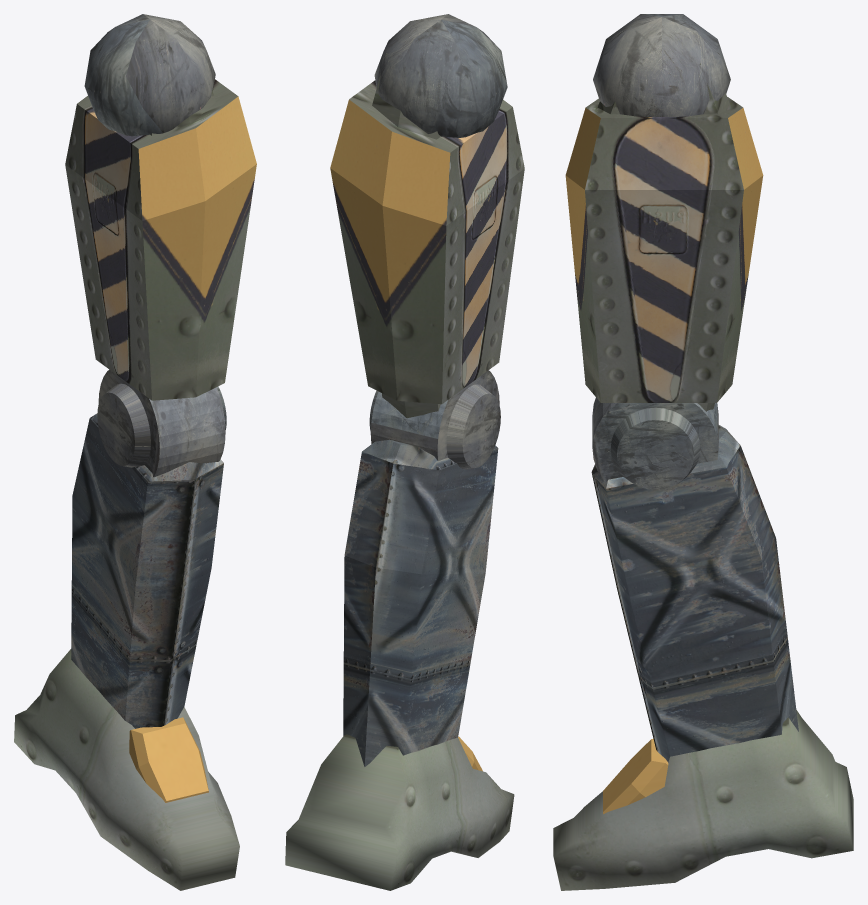
File: robot 4 Left leg.fbx
3 views of the same model, side by side, from view 1: azimuth 30°, elevation 25°; view 2: azimuth 150°, elevation 25°; view 3: azimuth 270°, elevation 25° (orthographic). The views are drawn at different scales.
Parts seen in each view (by area): view 1: Icosphere.001, Cylinder.004, Cube.016; view 2: Icosphere.001, Cylinder.004, Cube.016; view 3: Icosphere.001, Cylinder.004, Cube.016.
Part boxes in pixels (left/top/right/bottom): Icosphere.001: left=65, top=14, right=256, bottom=400; Cylinder.004: left=71, top=369, right=226, bottom=728; Cube.016: left=14, top=649, right=239, bottom=890; Icosphere.001: left=330, top=14, right=524, bottom=418; Cylinder.004: left=343, top=370, right=500, bottom=766; Cube.016: left=285, top=734, right=514, bottom=890; Icosphere.001: left=565, top=14, right=763, bottom=411; Cylinder.004: left=591, top=397, right=798, bottom=762; Cube.016: left=553, top=710, right=853, bottom=890.
Size of the model in its own units: 115 by 732 by 232.
